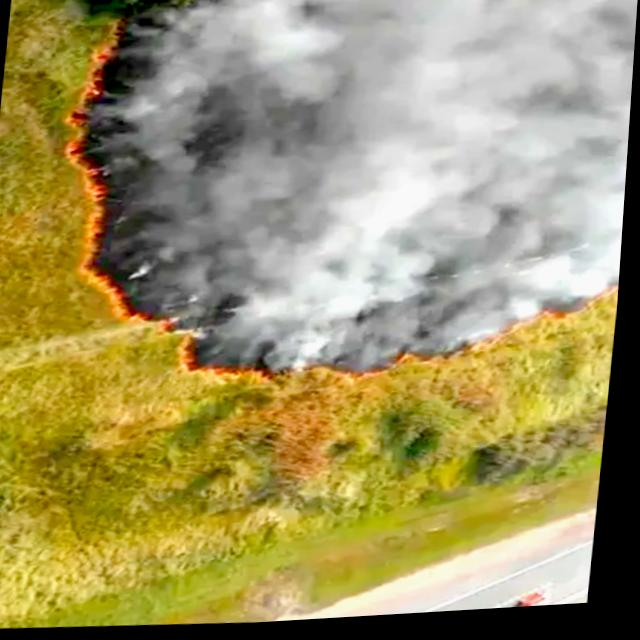no_helmet: (78, 0, 640, 382)
